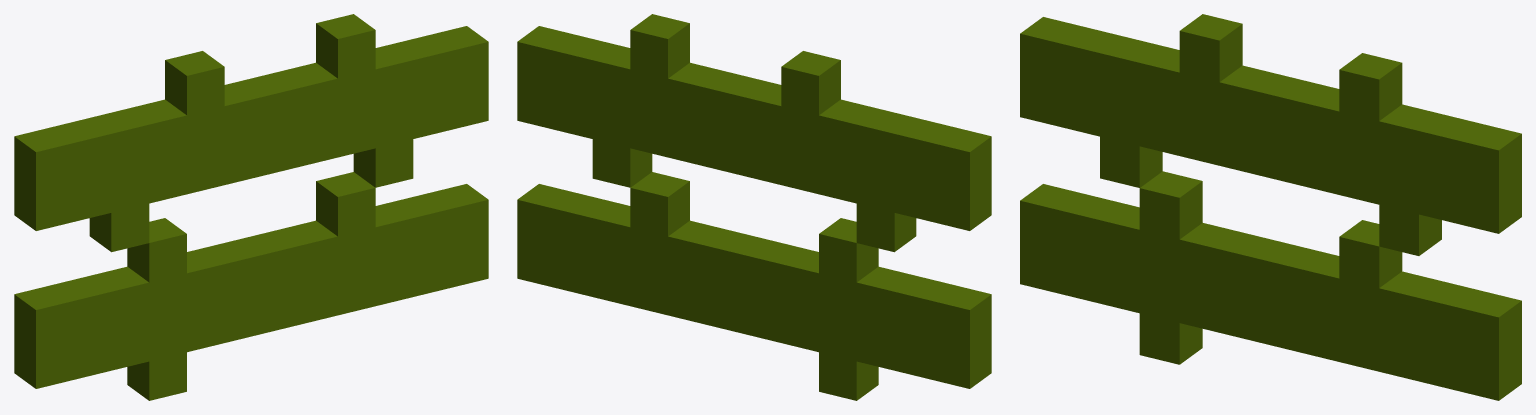
Rendered from MazeTanRightLeg-2.vox.obj.
The picture shows the model from 3 angles, left to right: view 1: azimuth 30°, elevation 25°; view 2: azimuth 150°, elevation 25°; view 3: azimuth 330°, elevation 25°; orthographic projection. The views are drawn at different scales.
Bounding box in the file's own units: 1.2 × 0.8 × 0.1.
Materials: 1 (1 with a texture image).
